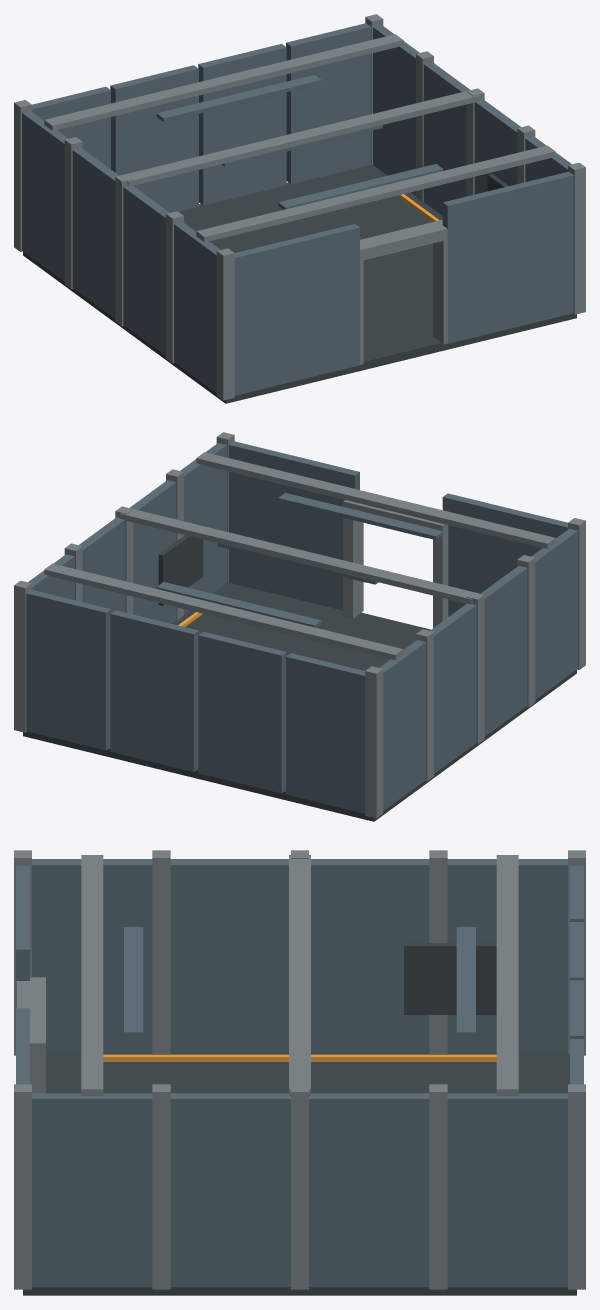
File: gravifire_lab_shell_8x8.glb
The picture shows the model from 3 angles, top to bottom: view 1: azimuth 30°, elevation 25°; view 2: azimuth 150°, elevation 25°; view 3: azimuth 270°, elevation 25°; orthographic projection. The views are drawn at different scales.
Parts seen in each view (by area): view 1: floor_base, wall_south_r, wall_south_l, wall_north_3, wall_north_1, wall_north_-1, wall_w_-1, wall_w_1, wall_w_-3, wall_w_3, ceiling_rail_3, ceiling_rail_1 (+19 smaller); view 2: wall_south_r, wall_north_1, wall_north_-1, wall_north_3, wall_north_-3, floor_base, wall_w_1, wall_south_l, wall_w_-1, wall_w_-3, wall_w_3, ceiling_rail_1 (+21 smaller); view 3: wall_e_-1, wall_e_1, wall_e_-3, wall_e_3, wall_w_1, wall_w_-1, floor_base, wall_w_3, wall_w_-3, ceiling_rail_1, ceiling_rail_3, service_panel_westA (+21 smaller).
Boxes of the visible parts, x1,y1,x2,y2 form: floor_base: [23, 165, 576, 403]; wall_south_r: [442, 171, 573, 343]; wall_south_l: [234, 224, 359, 395]; wall_north_3: [286, 23, 370, 183]; wall_north_1: [198, 44, 286, 205]; wall_north_-1: [110, 65, 198, 212]; wall_w_-1: [72, 148, 119, 318]; wall_w_1: [123, 185, 169, 355]; wall_w_-3: [22, 110, 68, 281]; wall_w_3: [174, 222, 220, 392]; ceiling_rail_3: [196, 145, 555, 241]; ceiling_rail_1: [44, 34, 403, 130]; wall_south_r: [229, 441, 359, 610]; wall_north_1: [110, 610, 198, 771]; wall_north_-1: [198, 631, 286, 793]; wall_north_3: [26, 589, 110, 750]; wall_north_-3: [286, 653, 365, 813]; floor_base: [23, 583, 576, 821]; wall_w_1: [480, 566, 527, 736]; wall_south_l: [442, 493, 567, 616]; wall_w_-1: [430, 603, 476, 773]; wall_w_-3: [379, 640, 425, 810]; wall_w_3: [531, 528, 577, 699]; ceiling_rail_1: [44, 563, 403, 659]; wall_e_-1: [309, 1093, 429, 1287]; wall_e_1: [170, 1093, 290, 1287]; wall_e_-3: [447, 1093, 567, 1287]; wall_e_3: [32, 1093, 152, 1287]; wall_w_1: [170, 859, 288, 1053]; wall_w_-1: [311, 859, 429, 1053]; floor_base: [23, 1053, 576, 1295]; wall_w_3: [32, 859, 152, 1053]; wall_w_-3: [447, 859, 567, 1053]; ceiling_rail_1: [496, 855, 518, 1095]; ceiling_rail_3: [81, 855, 103, 1095]; service_panel_westA: [404, 943, 496, 1014].
Bounding box in the file's own units: 8.26 × 3.32 × 8.26.
